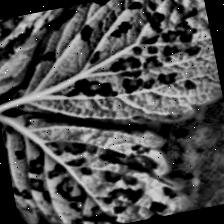Angular Leafspot: (0, 0, 224, 157), (0, 84, 196, 224), (0, 0, 179, 117)
